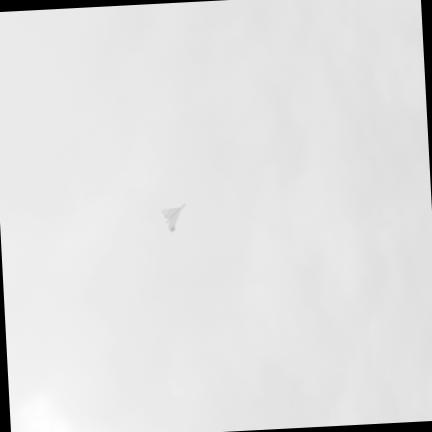Shahed: (162, 203, 185, 230)
